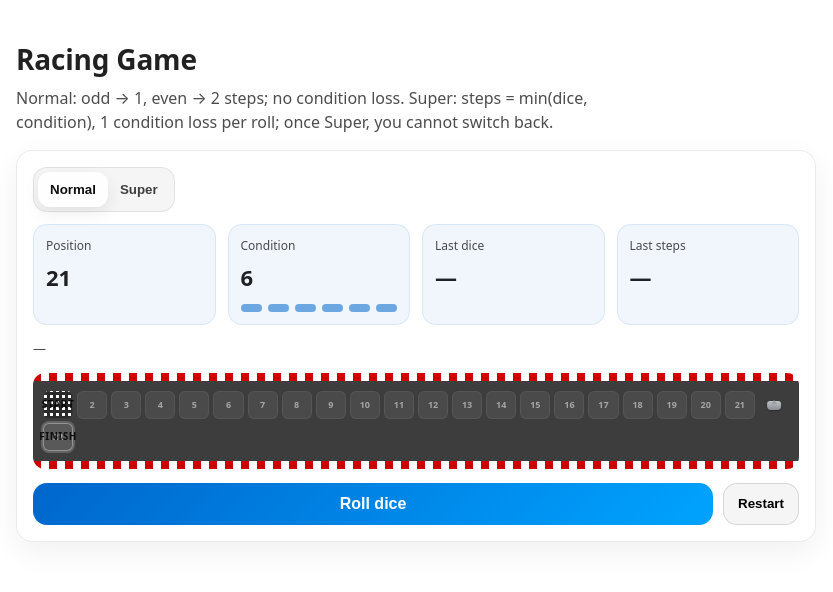
Test: RacingGame › shows win state and disables rolling
Click the button with test id "roll": (373, 504) [33,483,713,525]
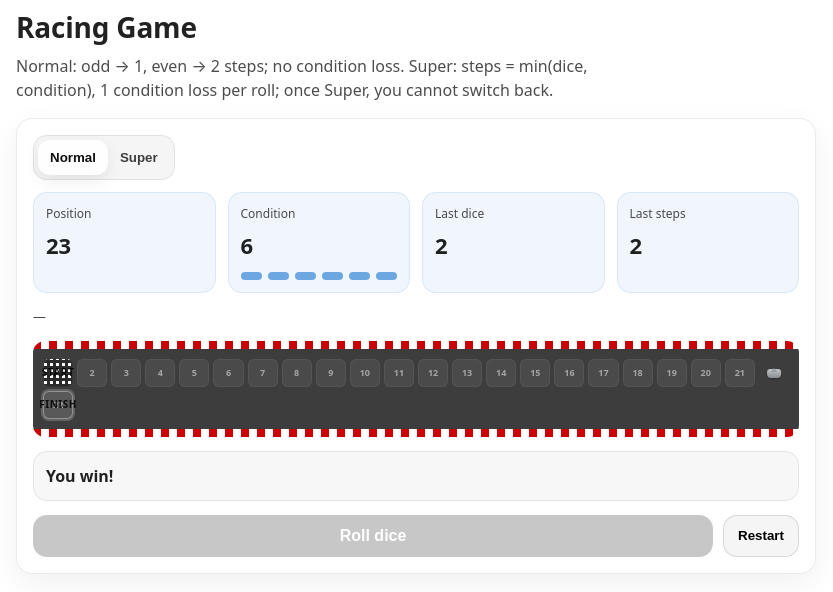
Expected: the element with test id "result" shows "You win", [46,465,113,487]
Expected: the button with test id "roll" is disabled, [33,515,713,557]
